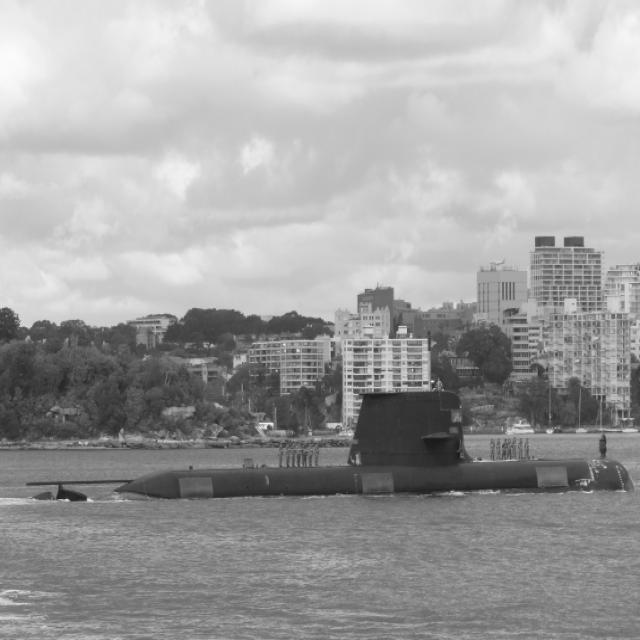submarine: (110, 394, 640, 495)
